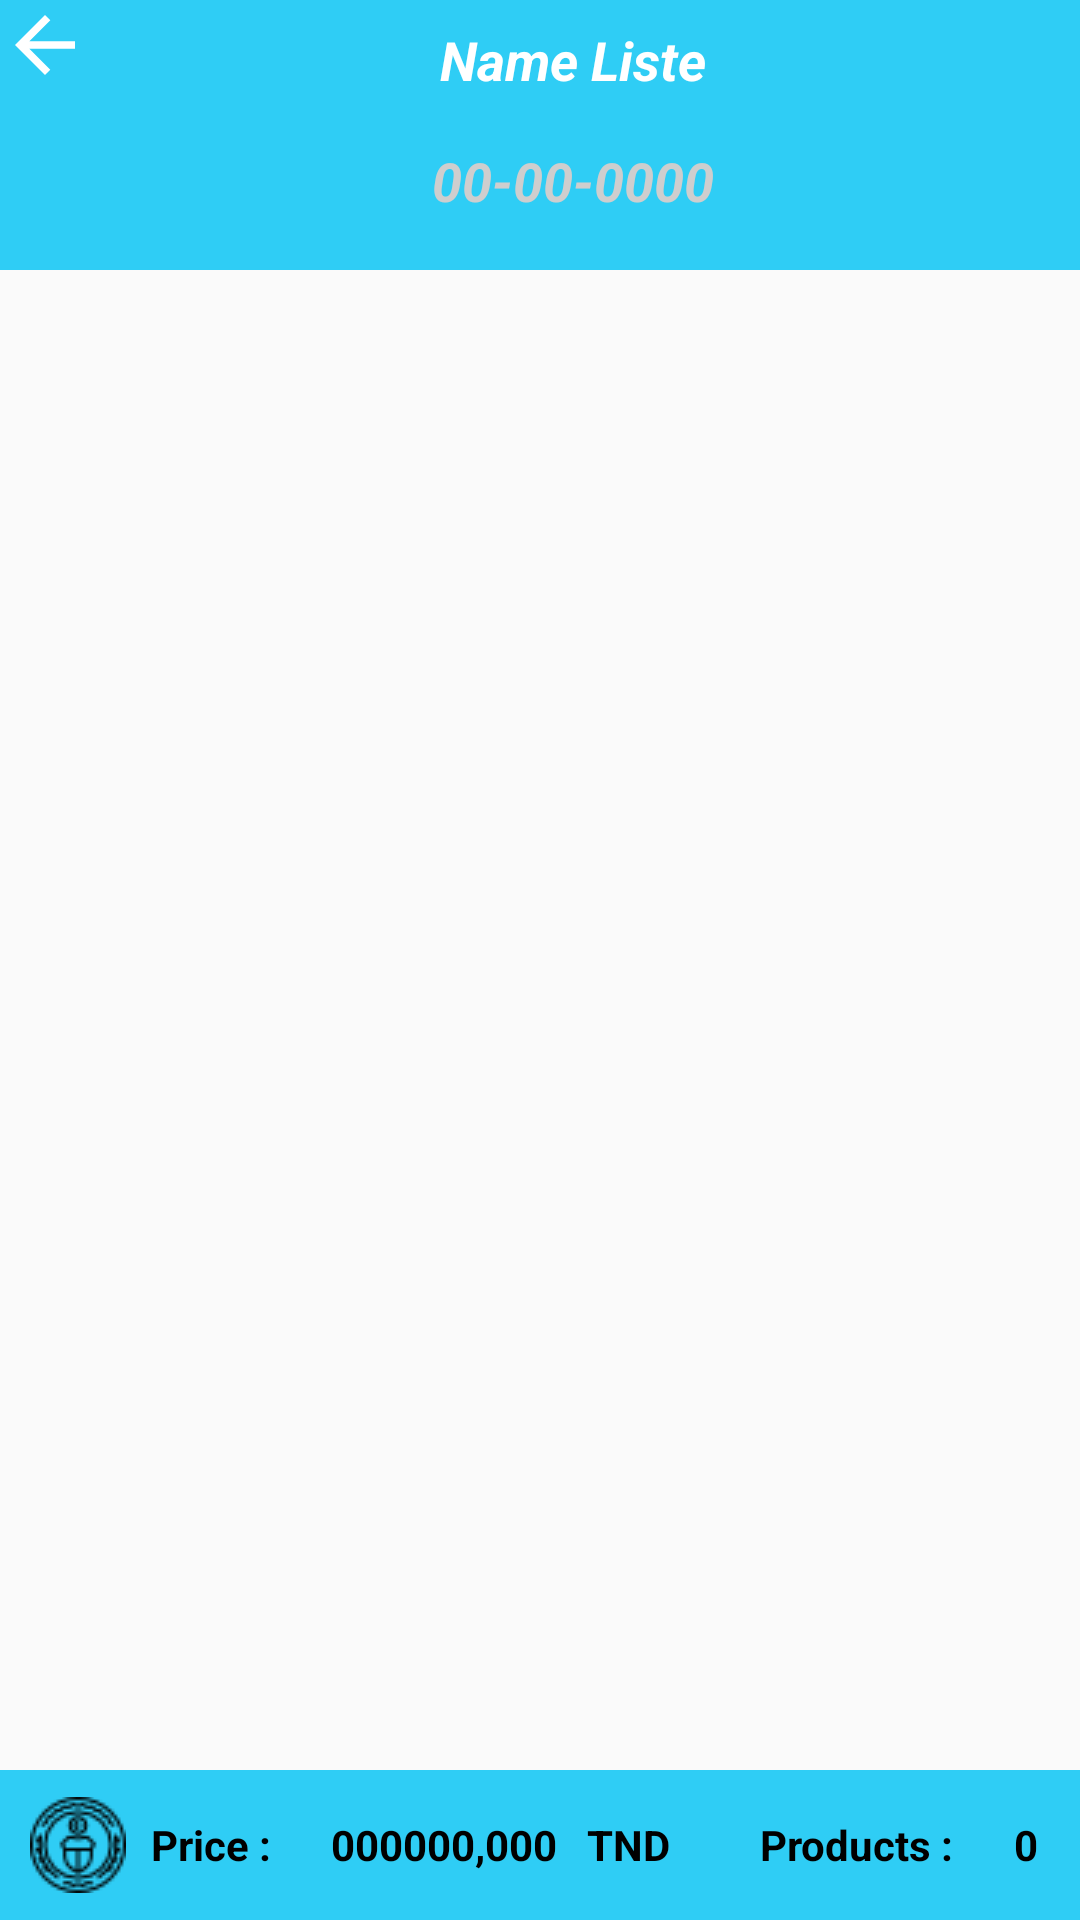

Screen size 1080 × 1920. Icon name, then its center in pixels as [x,y]:
back: [45,45]
